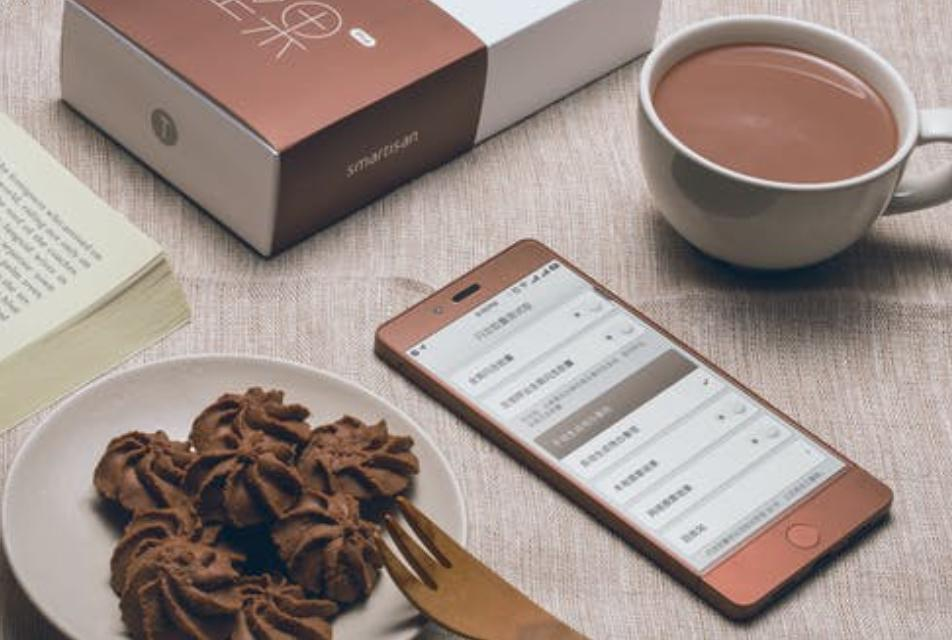mobile: (377, 239, 893, 621)
